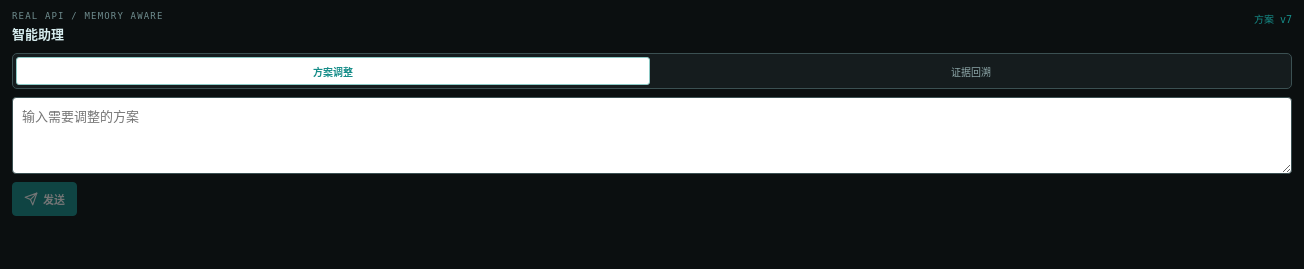
Test: SmartAssistantPanel › shows the real request error instead of swallowing it
Step 1. Type "复核" into the text box named "智能助理输入" → point(652, 135), box [12, 97, 1292, 174]
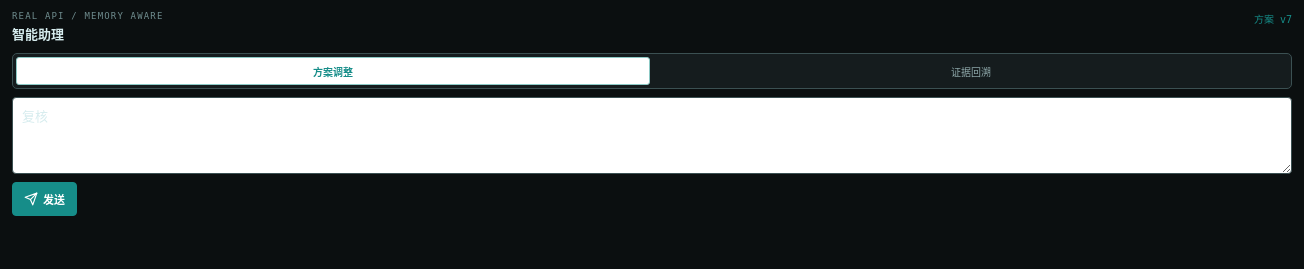
Step 2. Click the button "发送" → point(44, 198), box [12, 182, 77, 216]
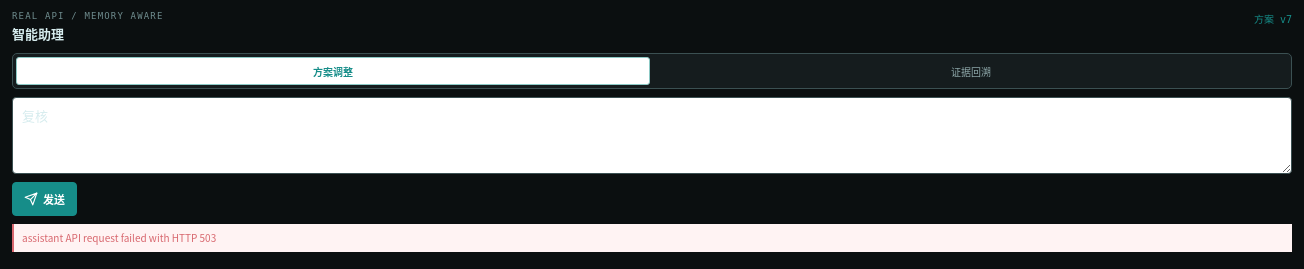
Expected: the message shows "HTTP 503", [22, 230, 216, 244]
